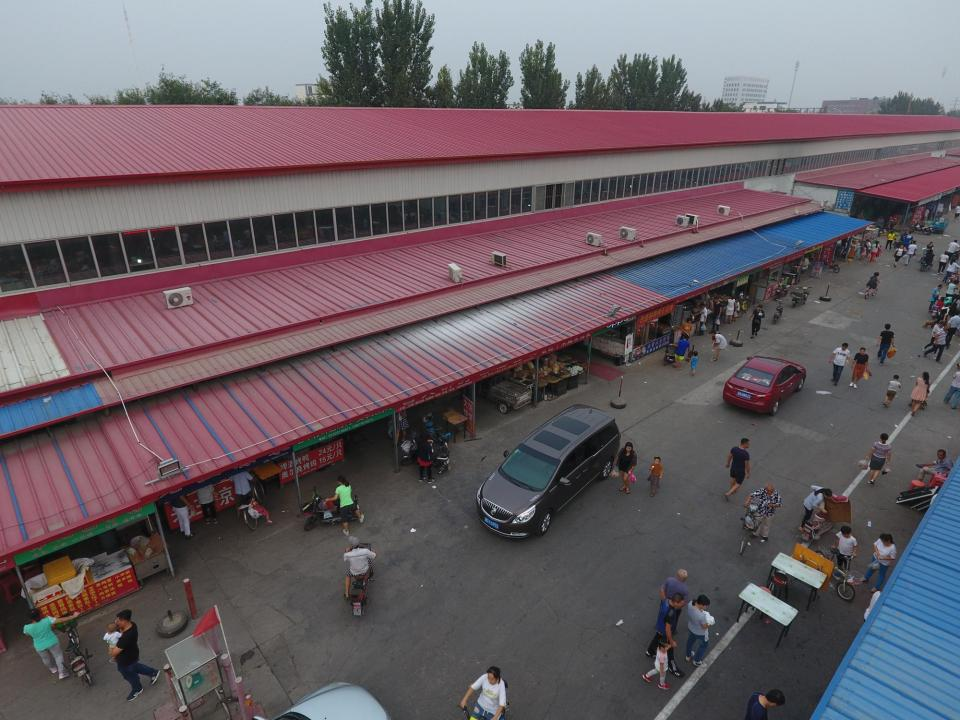car: (474, 403, 622, 540), (223, 680, 392, 720), (722, 355, 806, 416)
